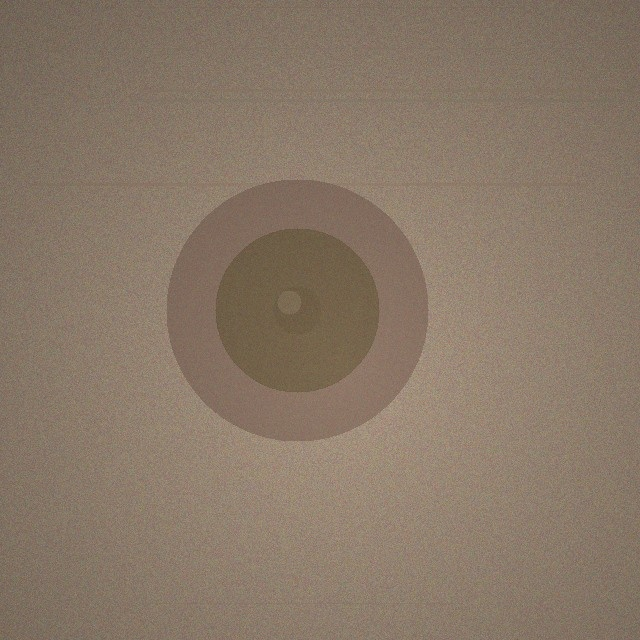good: (166, 179, 428, 441)
